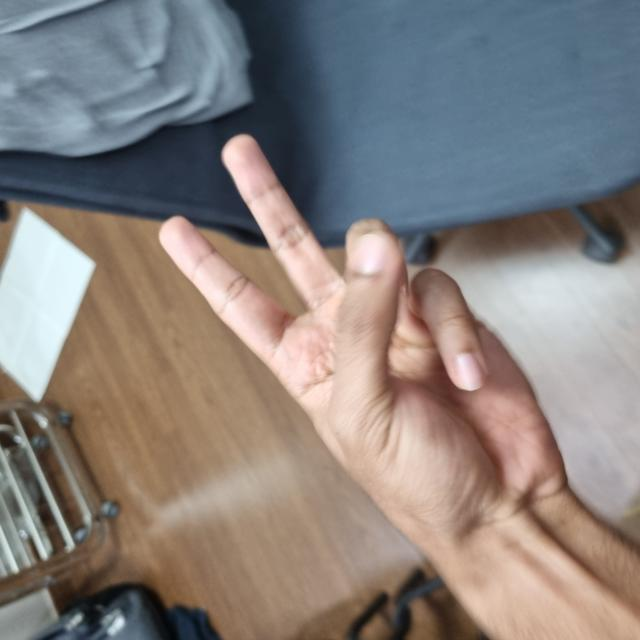Scissors: (65, 159, 505, 562)
